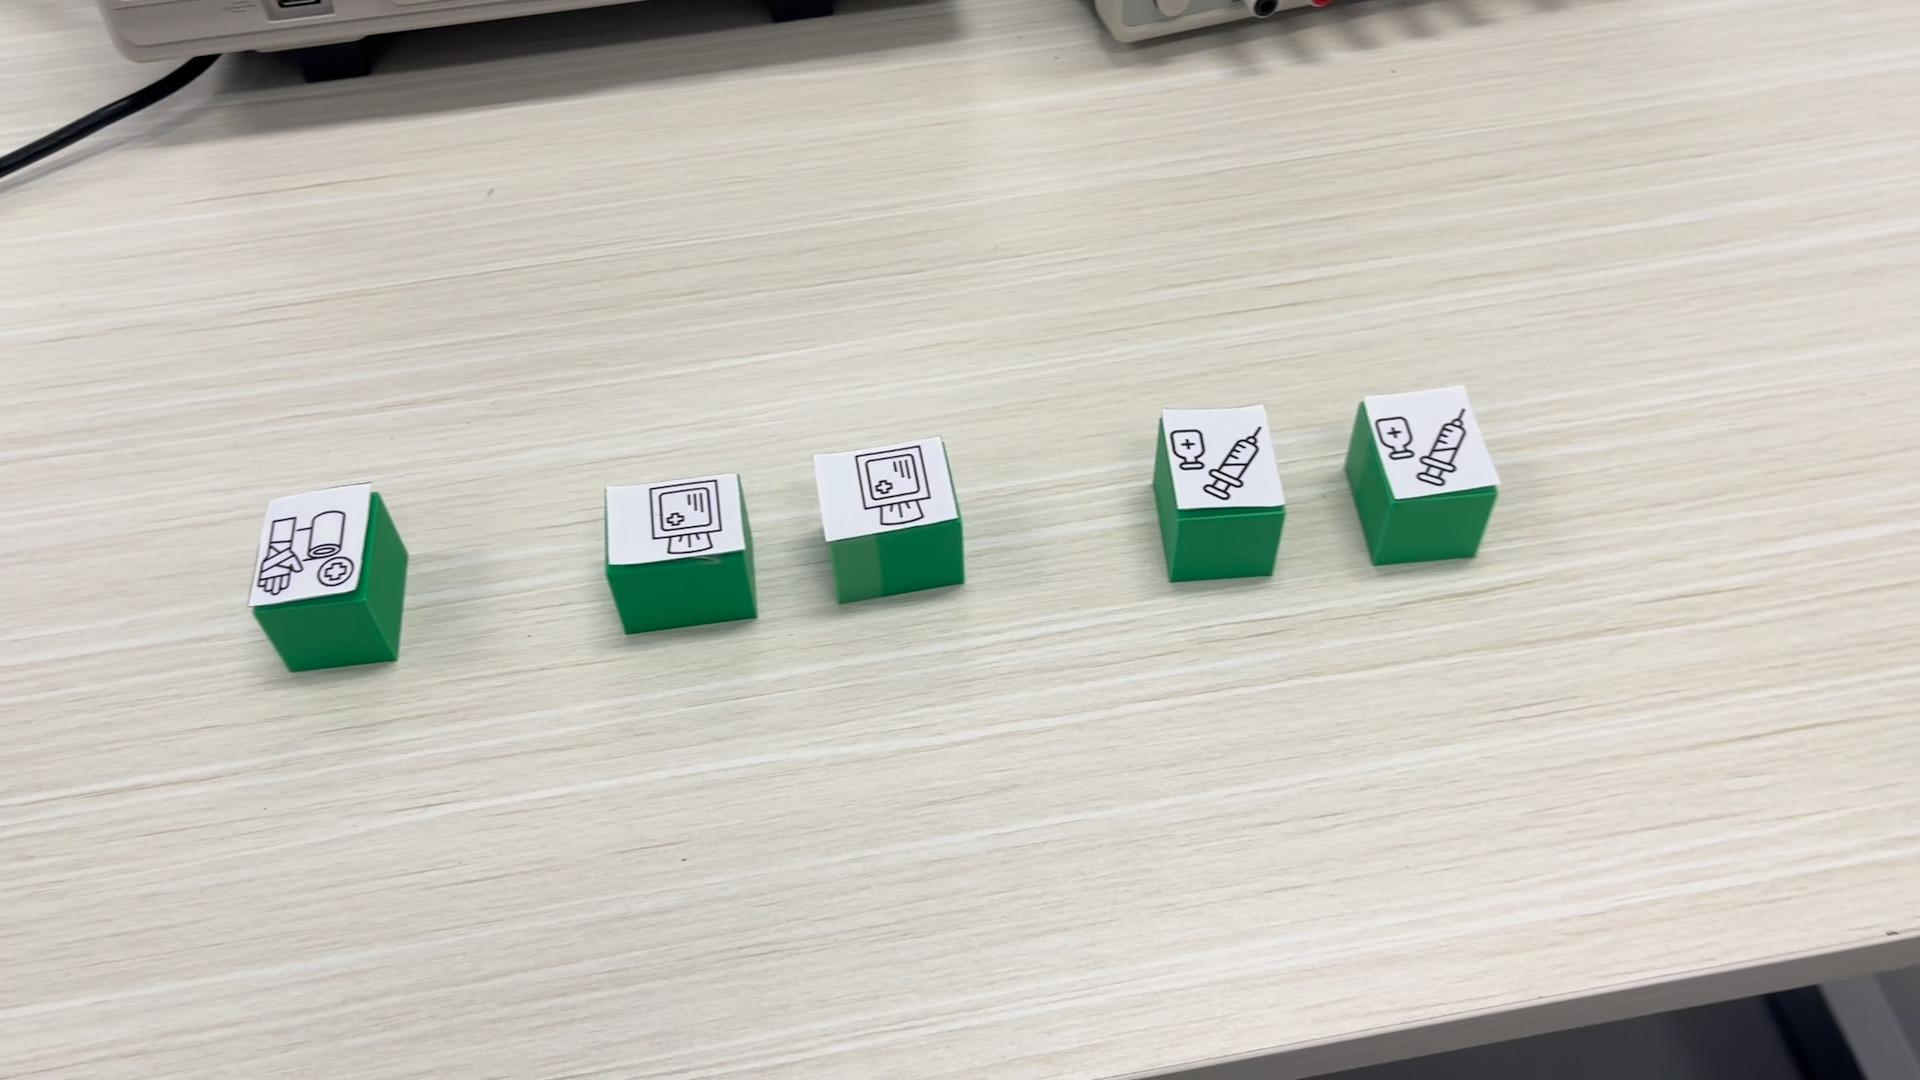Bandages: (245, 481, 406, 673)
Gauze: (812, 435, 967, 604), (605, 469, 758, 633)
antiseptic cream: (1342, 382, 1499, 566), (1153, 402, 1284, 582)
